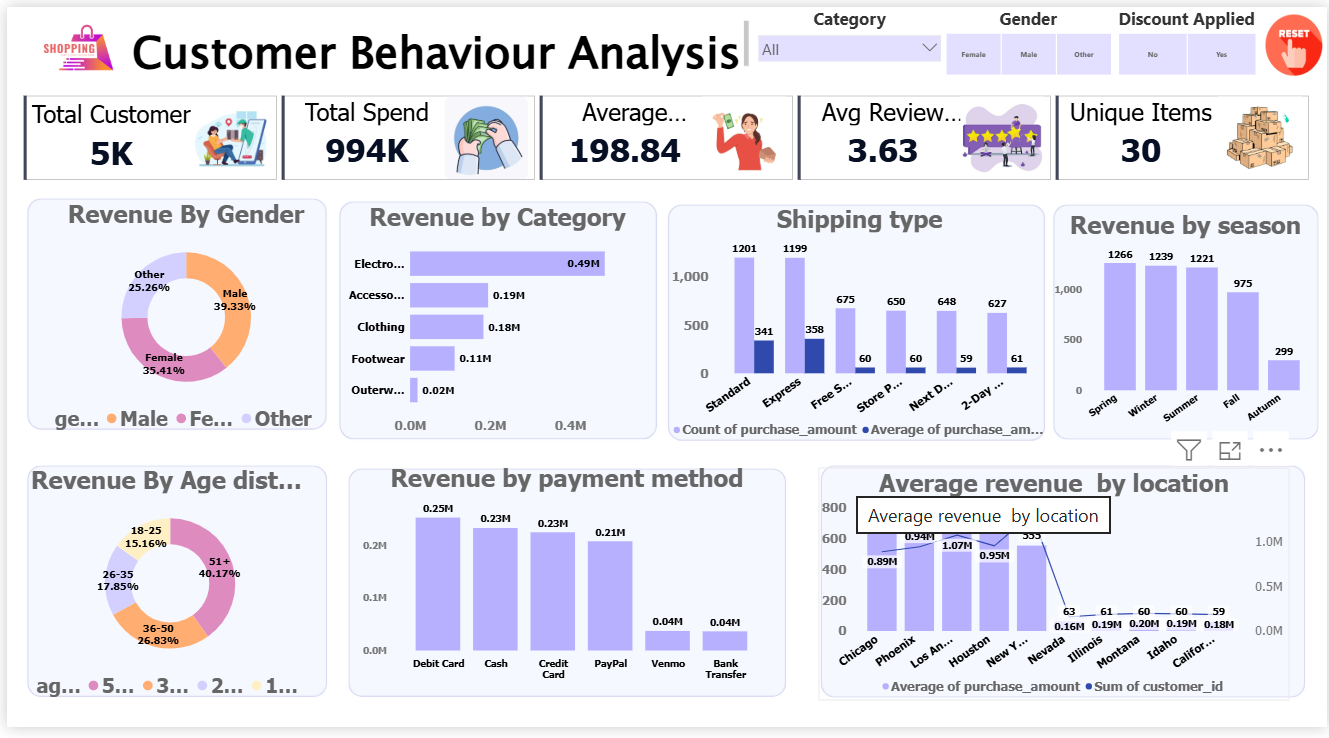

The page's visual inventory and layout, read from the dashboard file:
{"tool":"powerbi","page":{"name":"Custromer Analysis Revenue","canvas":[2200,1200],"ordinal":0},"visuals":[{"type":"image","box":[0,0,240,143.3],"z":0},{"type":"shape","box":[30,315,506.9,393.4],"z":0,"group":"g4"},{"type":"shape","box":[550,320,537.4,404.5],"z":0,"group":"g2"},{"type":"group","id":"g1","title":"Group 1","box":[1740.6,325,450,400],"z":0,"group":"g7"},{"type":"shape","box":[1740.6,325,450,400],"z":0,"group":"g1"},{"type":"shape","box":[1096.3,325.4,636.6,402.1],"z":0,"group":"g3"},{"type":"shape","box":[30,760,507.5,394],"z":0,"group":"g8"},{"type":"shape","box":[565,766.2,737.5,388.8],"z":500,"group":"g9"},{"type":"cardVisual","fields":{"Data":["customer_data.Total Customer","customer_data.Total Spend","customer_data.Average spend","customer_data.Avg Review Rating","customer_data.Unique Items"]},"box":[23.3,143.3,2153.3,150],"z":1000},{"type":"donutChart","title":"Revenue By Gender","fields":{"Y":["Sum(customer_data.purchase_amount)"],"Category":["customer_data.gender"]},"box":[60.5,320.5,476.7,394.2],"z":1000,"group":"g4"},{"type":"clusteredColumnChart","title":"Revenue by season","fields":{"Category":["customer_data.season"],"Y":["CountNonNull(customer_data.item_purchased)"]},"box":[1741.7,338.3,448.3,375],"z":1000,"group":"g7"},{"type":"donutChart","title":"Revenue By Age distribution","fields":{"Category":["customer_data.age (groups)"],"Y":["Sum(customer_data.purchase_amount)"]},"box":[34.4,762.9,473.1,397.1],"z":1500,"group":"g8"},{"type":"group","id":"g2","title":"Group 1","box":[550,320,537.4,404.5],"z":2000,"group":"g5"},{"type":"group","id":"g3","title":"Group 1","box":[1096.3,325.4,636.6,402.1],"z":2000,"group":"g6"},{"type":"shape","box":[1352.5,760,815,395],"z":2000},{"type":"group","id":"g4","title":"Group 1","box":[30,315,507.5,395],"z":3000},{"type":"barChart","title":"Revenue by Category","fields":{"Category":["customer_data.category"],"Y":["Sum(customer_data.purchase_amount)"]},"box":[551.2,323.8,530,395],"z":3000,"group":"g5"},{"type":"clusteredColumnChart","title":"Shipping type","fields":{"Y":["CountNonNull(customer_data.purchase_amount)1","Avg(customer_data.purchase_amount)"],"Category":["customer_data.shipping_type"]},"box":[1102.4,328.7,637.2,400],"z":3003,"group":"g6"},{"type":"group","id":"g5","title":"Group 2","box":[550,320,537.5,405],"z":4000},{"type":"group","id":"g6","title":"Group 3","box":[1096.3,325.4,643.3,403.3],"z":5000},{"type":"group","id":"g7","title":"Group 4","box":[1740.6,325,450,400],"z":6000},{"type":"group","id":"g8","title":"Group 5","box":[30,760,507.5,400],"z":7000},{"type":"group","id":"g9","title":"Group 6","box":[565,760,737.5,395],"z":8000},{"type":"clusteredColumnChart","title":"Revenue by payment method","fields":{"Y":["Sum(customer_data.purchase_amount)"],"Category":["customer_data.payment_method"]},"box":[587,760,691.4,370.2],"z":8500,"group":"g9"},{"type":"lineClusteredColumnComboChart","title":"Average revenue  by location","fields":{"Category":["customer_data.location"],"Y":["Avg(customer_data.purchase_amount)"],"Y2":["Sum(customer_data.customer_id)"]},"box":[1352.5,767.5,785,387.5],"z":9000},{"type":"textbox","box":[0,338.3,536.1,385.2],"z":10000},{"type":"textbox","box":[537,415,201,405],"z":11000},{"type":"textbox","box":[197.8,18.2,1043.6,101.5],"z":12000},{"type":"slicer","title":"Category","fields":{"Values":["customer_data.category"]},"box":[1242.4,0,323.7,120.3],"z":12001},{"type":"slicer","title":"Gender","fields":{"Values":["customer_data.gender"]},"box":[1540,0,324,120],"z":12002},{"type":"slicer","title":"Discount Applied","fields":{"Values":["customer_data.discount_applied"]},"box":[1828,0,277,120],"z":12003},{"type":"actionButton","box":[2097.8,12.2,94.4,102.2],"z":12004}]}

Visuals, with their boxes in screenshot pixels (x1, y1, x2, y2), scaled from the page's 2200x1200 canvas onto the 1329x738 screenshot:
image: (x1=0, y1=0, x2=145, y2=88)
shape: (x1=18, y1=194, x2=324, y2=436)
shape: (x1=332, y1=197, x2=657, y2=446)
"Group 1" group: (x1=1051, y1=200, x2=1323, y2=446)
shape: (x1=1051, y1=200, x2=1323, y2=446)
shape: (x1=662, y1=200, x2=1047, y2=447)
shape: (x1=18, y1=467, x2=325, y2=710)
shape: (x1=341, y1=471, x2=787, y2=710)
cardVisual - customer_data.Total Customer x customer_data.Total Spend: (x1=14, y1=88, x2=1315, y2=180)
"Revenue By Gender" donutChart: (x1=37, y1=197, x2=325, y2=440)
"Revenue by season" clusteredColumnChart: (x1=1052, y1=208, x2=1323, y2=439)
"Revenue By Age distribution" donutChart: (x1=21, y1=469, x2=307, y2=713)
"Group 1" group: (x1=332, y1=197, x2=657, y2=446)
"Group 1" group: (x1=662, y1=200, x2=1047, y2=447)
shape: (x1=817, y1=467, x2=1309, y2=710)
"Group 1" group: (x1=18, y1=194, x2=325, y2=437)
"Revenue by Category" barChart: (x1=333, y1=199, x2=653, y2=442)
"Shipping type" clusteredColumnChart: (x1=666, y1=202, x2=1051, y2=448)
"Group 2" group: (x1=332, y1=197, x2=657, y2=446)
"Group 3" group: (x1=662, y1=200, x2=1051, y2=448)
"Group 4" group: (x1=1051, y1=200, x2=1323, y2=446)
"Group 5" group: (x1=18, y1=467, x2=325, y2=713)
"Group 6" group: (x1=341, y1=467, x2=787, y2=710)
"Revenue by payment method" clusteredColumnChart: (x1=355, y1=467, x2=772, y2=695)
"Average revenue  by location" lineClusteredColumnComboChart: (x1=817, y1=472, x2=1291, y2=710)
textbox: (x1=0, y1=208, x2=324, y2=445)
textbox: (x1=324, y1=255, x2=446, y2=504)
textbox: (x1=119, y1=11, x2=750, y2=74)
"Category" slicer: (x1=751, y1=0, x2=946, y2=74)
"Gender" slicer: (x1=930, y1=0, x2=1126, y2=74)
"Discount Applied" slicer: (x1=1104, y1=0, x2=1272, y2=74)
actionButton: (x1=1267, y1=8, x2=1324, y2=70)
